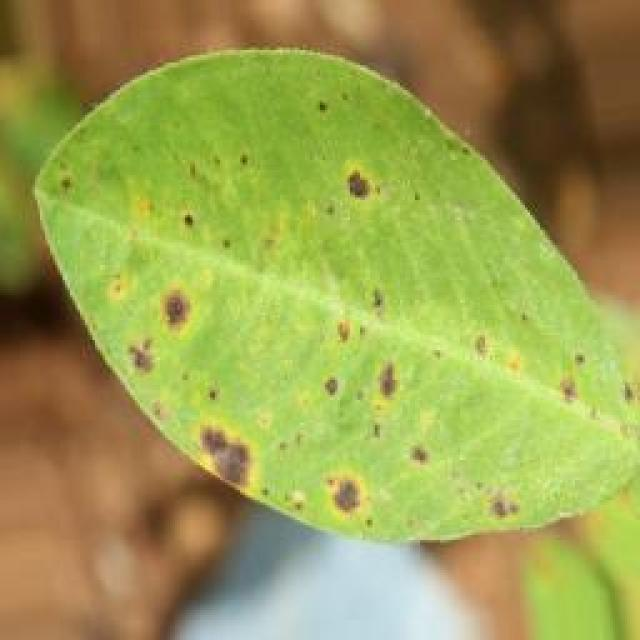Yellowish: (16, 32, 634, 584)
